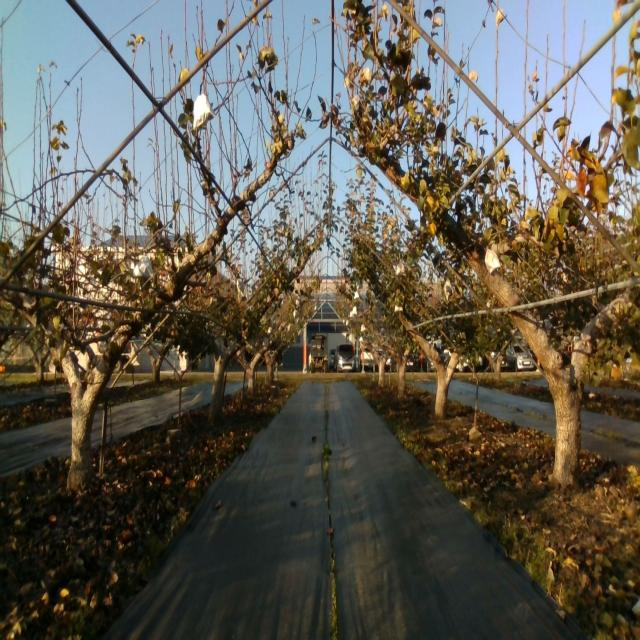pearbags: (193, 94, 216, 133), (484, 243, 501, 277), (132, 255, 153, 278)
